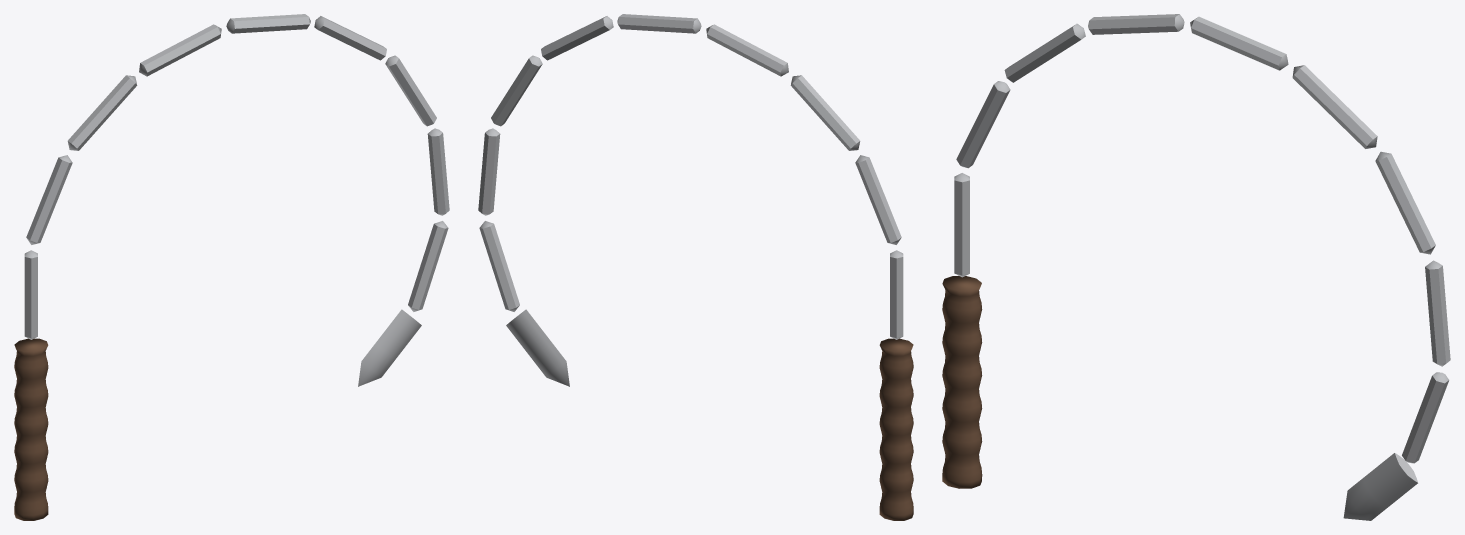
Rendered from nine-section-whip.glb.
The picture shows the model from 3 angles, left to right: view 1: azimuth 30°, elevation 25°; view 2: azimuth 150°, elevation 25°; view 3: azimuth 330°, elevation 25°; orthographic projection. The views are drawn at different scales.
Visible parts, largest first — view 1: nine-section-whip; view 2: nine-section-whip; view 3: nine-section-whip.
Part boxes in pixels (x1,y1,x2,y2): nine-section-whip: (14, 14, 449, 520); nine-section-whip: (478, 14, 913, 520); nine-section-whip: (942, 14, 1450, 520).
Size of the model in its own units: 0.9066 by 0.8937 by 0.0533.
